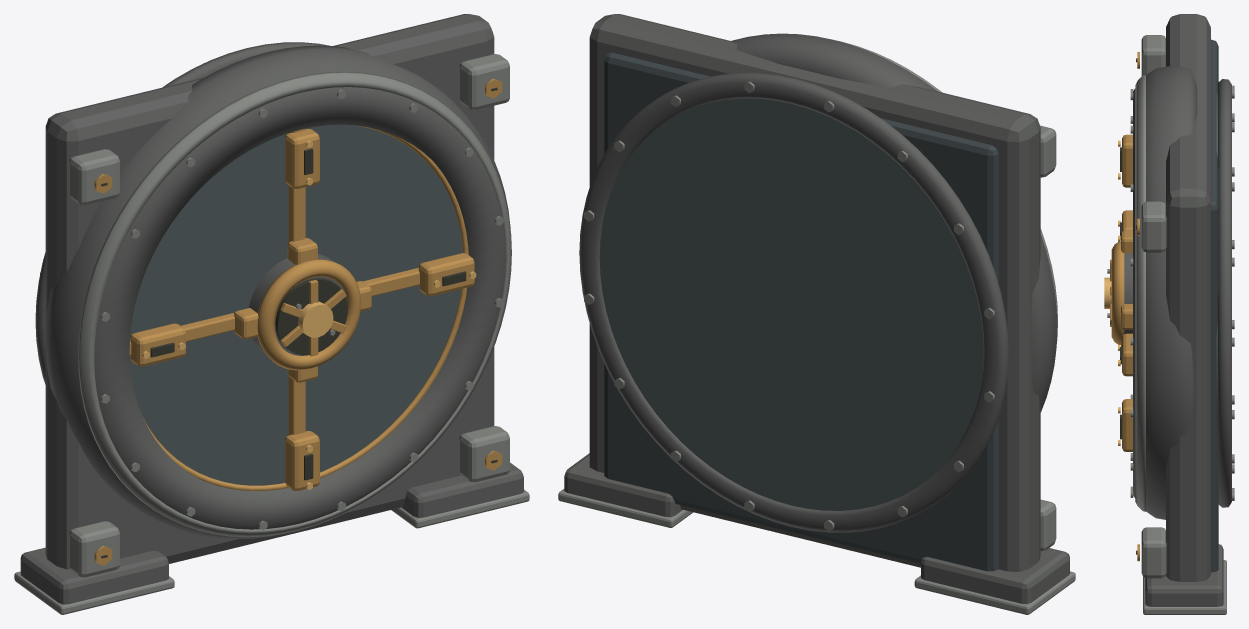
The model's file is wsc-prop-063-round-vault-bulkhead.glb.
The picture shows the model from 3 angles, left to right: view 1: azimuth 30°, elevation 25°; view 2: azimuth 150°, elevation 25°; view 3: azimuth 270°, elevation 25°; orthographic projection. The views are drawn at different scales.
Parts seen in each view (by area): view 1: Dark-cast steel collar, Blued steel leaves, Brushed raised edges, Burnished alloy, Recessed charcoal gaskets, Polished bronze; view 2: Blued steel leaves, Dark-cast steel collar, Charcoal bed plate, Brushed raised edges; view 3: Dark-cast steel collar, Brushed raised edges, Charcoal bed plate, Burnished alloy, Polished bronze, Blued steel leaves.
Part boxes in pixels (<box>): Dark-cast steel collar: <box>20,14,523,604</box>; Blued steel leaves: <box>129,124,462,485</box>; Brushed raised edges: <box>14,54,529,614</box>; Burnished alloy: <box>94,78,502,565</box>; Recessed charcoal gaskets: <box>101,87,497,558</box>; Polished bronze: <box>142,140,476,489</box>; Blued steel leaves: <box>599,98,983,510</box>; Dark-cast steel collar: <box>564,14,1069,603</box>; Charcoal bed plate: <box>604,52,998,571</box>; Brushed raised edges: <box>558,40,1075,614</box>; Dark-cast steel collar: <box>1124,14,1231,606</box>; Brushed raised edges: <box>1107,35,1234,614</box>; Charcoal bed plate: <box>1211,39,1218,572</box>; Burnished alloy: <box>1110,52,1139,561</box>; Polished bronze: <box>1104,140,1120,445</box>; Blued steel leaves: <box>1216,93,1217,425</box>.
Bounding box in the file's own units: 2.96 × 2.96 × 0.812.
